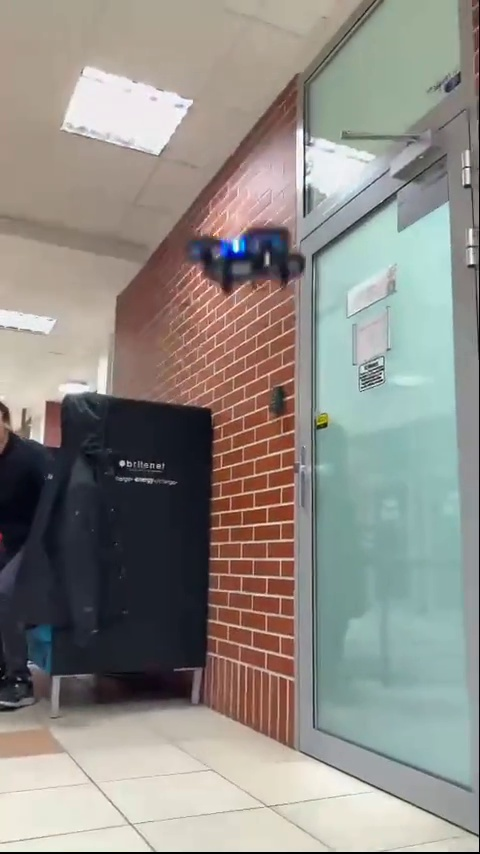drone: (185, 229, 307, 295)
